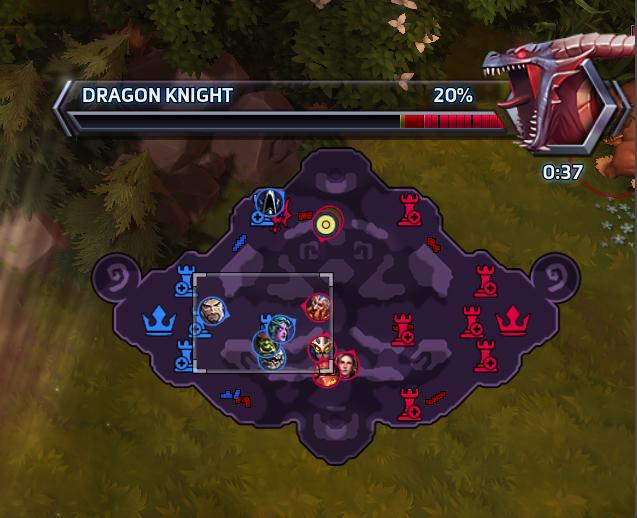blue nexus: (140, 303, 177, 336)
blue player: (197, 295, 228, 326), (254, 187, 285, 218), (266, 314, 294, 343), (251, 330, 279, 359), (257, 345, 286, 371)
blue tower: (173, 263, 196, 297), (173, 337, 195, 372), (186, 317, 212, 340), (260, 313, 275, 330)
red nexus: (494, 303, 531, 336)
red player: (309, 206, 344, 243), (301, 292, 331, 323), (332, 348, 360, 380), (307, 332, 335, 363), (312, 355, 339, 387)
red tower: (394, 190, 428, 230), (390, 309, 420, 349), (455, 304, 486, 341), (399, 384, 425, 426), (469, 338, 499, 374), (471, 260, 500, 297)
